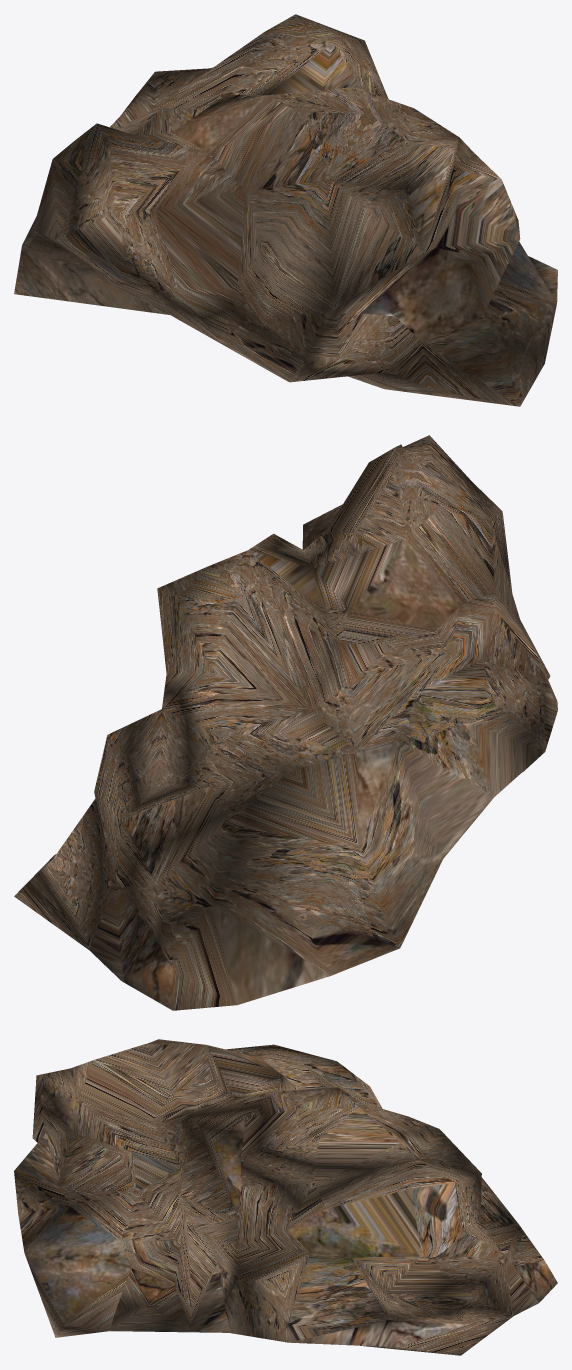
File: boulder-mobile.glb
3 views of the same model, one above another, from view 1: azimuth 30°, elevation 25°; view 2: azimuth 150°, elevation 25°; view 3: azimuth 270°, elevation 25° (orthographic). The views are drawn at different scales.
Parts seen in each view (by area): view 1: boulder_01; view 2: boulder_01; view 3: boulder_01.
Part boxes in pixels (left/top/right/bottom): boulder_01: left=14, top=14, right=557, bottom=406; boulder_01: left=14, top=435, right=557, bottom=1010; boulder_01: left=14, top=1039, right=557, bottom=1355.
Size of the model in its own units: 1.25 by 0.98 by 1.81.
1 material, 1 textured.
